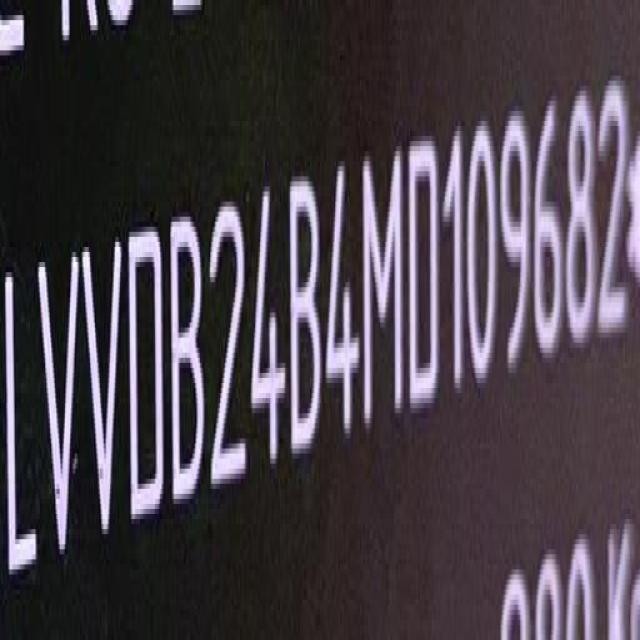0: (462, 117, 498, 390)
1: (440, 127, 465, 410)
2: (210, 203, 250, 500), (597, 73, 634, 341)
4: (323, 160, 364, 453), (250, 188, 290, 482)
6: (530, 99, 568, 358)
8: (564, 89, 598, 348)
9: (498, 111, 534, 373)
B: (169, 214, 210, 510), (290, 168, 328, 462)
D: (124, 222, 166, 530), (408, 137, 444, 420)
L: (0, 259, 38, 589)
M: (360, 145, 408, 437)
V: (34, 244, 81, 576), (81, 232, 128, 558)
